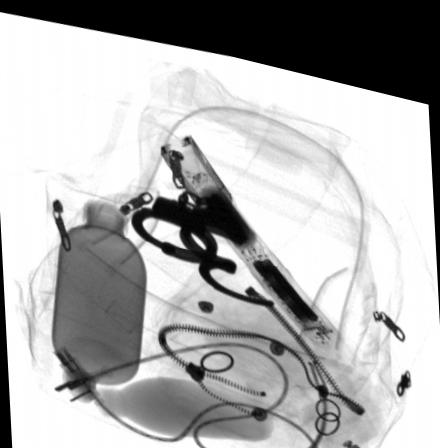Baton: (158, 122, 344, 338)
HandCuffs: (128, 177, 274, 294)
